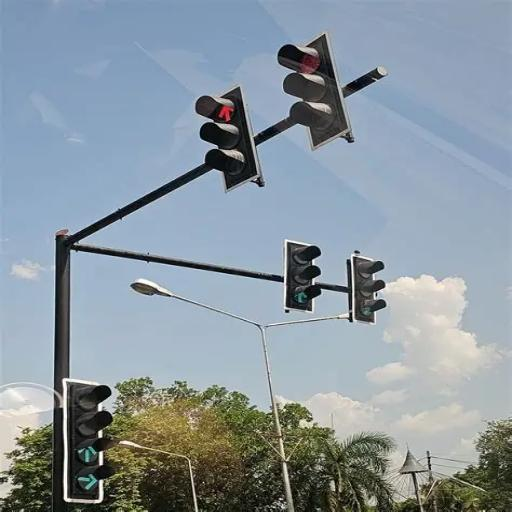traffic light: (276, 30, 354, 151), (193, 83, 265, 193), (62, 378, 114, 503), (283, 239, 322, 314), (349, 254, 387, 323)
